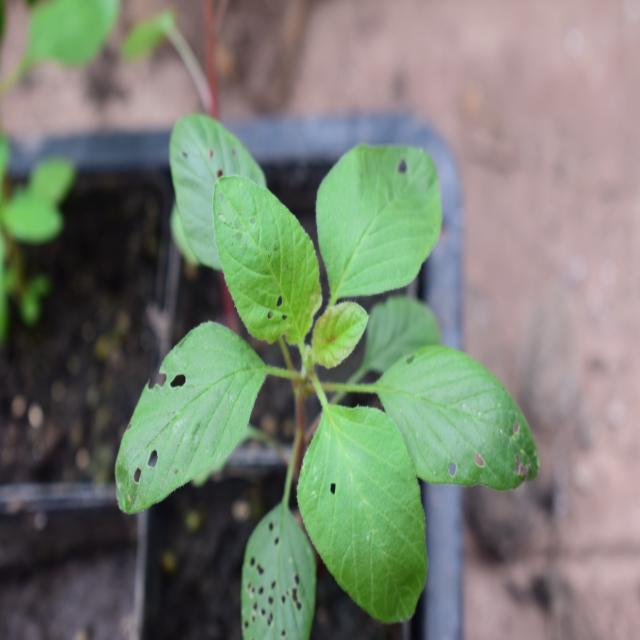pigweed: (121, 118, 524, 604)
